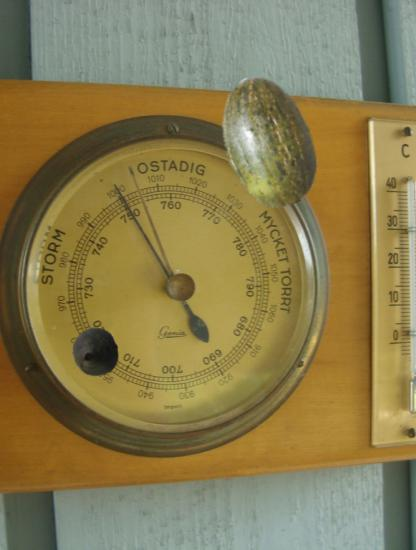Beetroot: (69, 326, 121, 378)
Melon: (201, 75, 336, 210)
